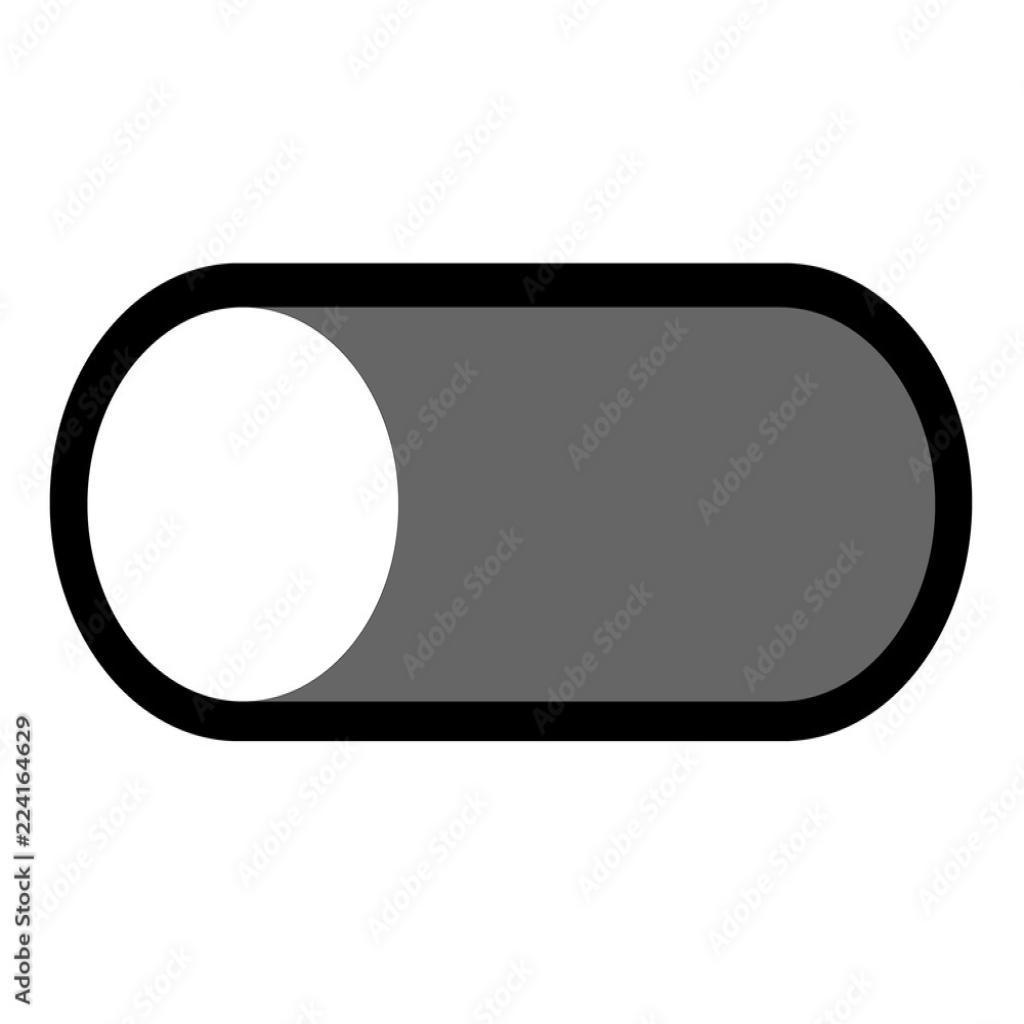switch: (48, 263, 975, 745)
